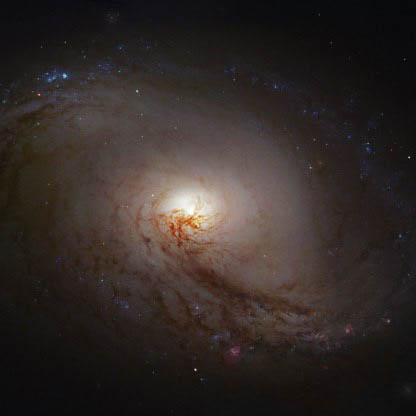Messier 96: (6, 31, 412, 377)
